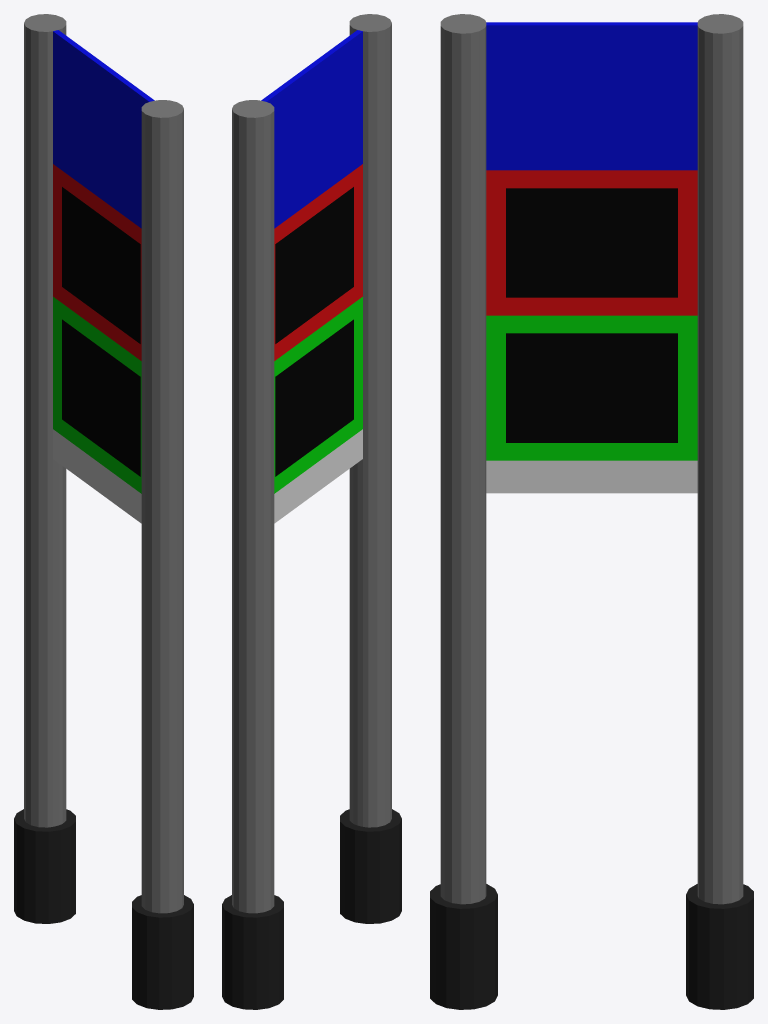
File: gasStationSign.fbx
3 views of the same model, side by side, from view 1: azimuth 30°, elevation 25°; view 2: azimuth 150°, elevation 25°; view 3: azimuth 270°, elevation 25° (orthographic). The views are drawn at different scales.
Visible parts, largest first — view 1: Cylinder; view 2: Cylinder; view 3: Cylinder.
Part boxes in pixels (x1,y1,x2,y2): Cylinder: (14,14,193,1009); Cylinder: (222,14,401,1009); Cylinder: (430,14,753,1009).
Bounding box in the file's own units: 87.11 × 1369 × 414.
